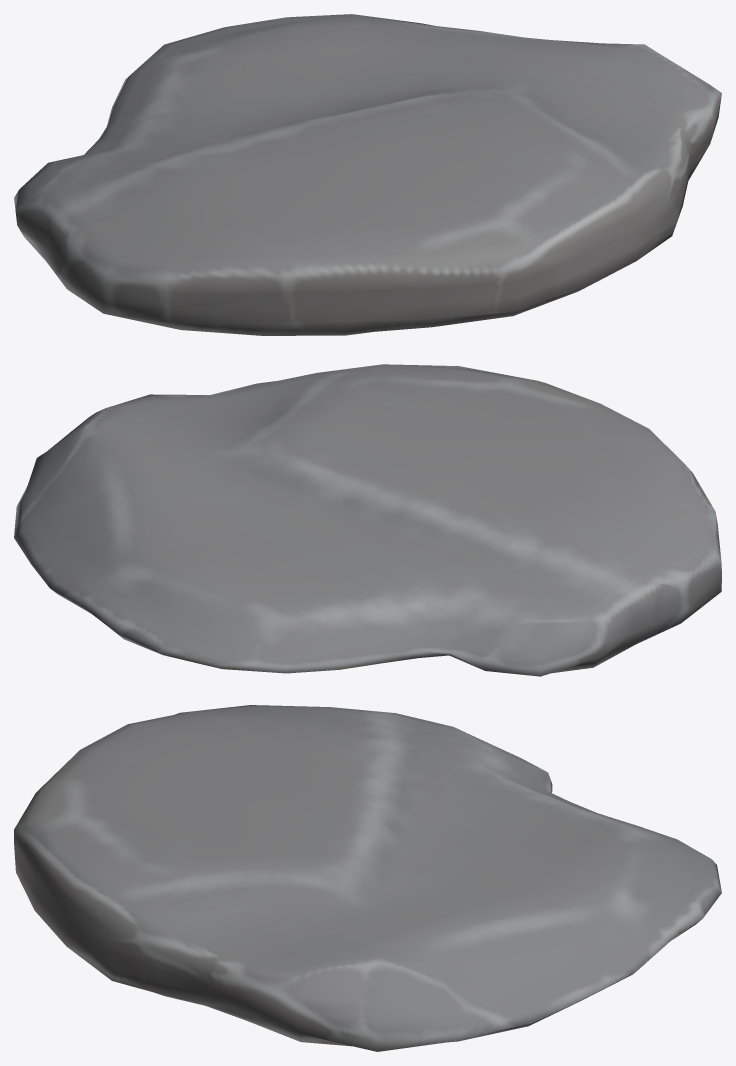
The model's file is rock_small_004.fbx.
3 views of the same model, one above another, from view 1: azimuth 30°, elevation 25°; view 2: azimuth 150°, elevation 25°; view 3: azimuth 270°, elevation 25° (orthographic). The views are drawn at different scales.
Parts seen in each view (by area): view 1: rock_small_004; view 2: rock_small_004; view 3: rock_small_004.
Part boxes in pixels (bbox=[...]): rock_small_004: bbox=[14, 14, 721, 335]; rock_small_004: bbox=[14, 364, 721, 676]; rock_small_004: bbox=[14, 705, 721, 1051].
Bounding box in the file's own units: 3.33 × 0.4631 × 3.1.
